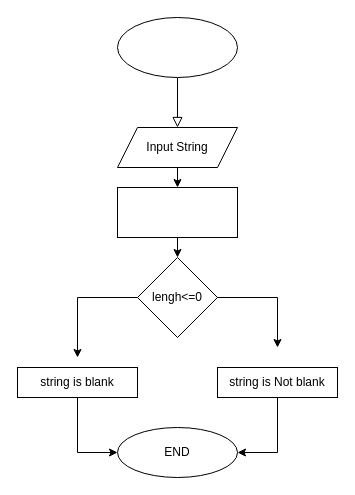
This 355x495 diagram has some shape labels left out. Here are the shapes that lost their labels. From the top down, the centre of each, then its label:
point 177,47: START
point 177,212: calculate length of string
